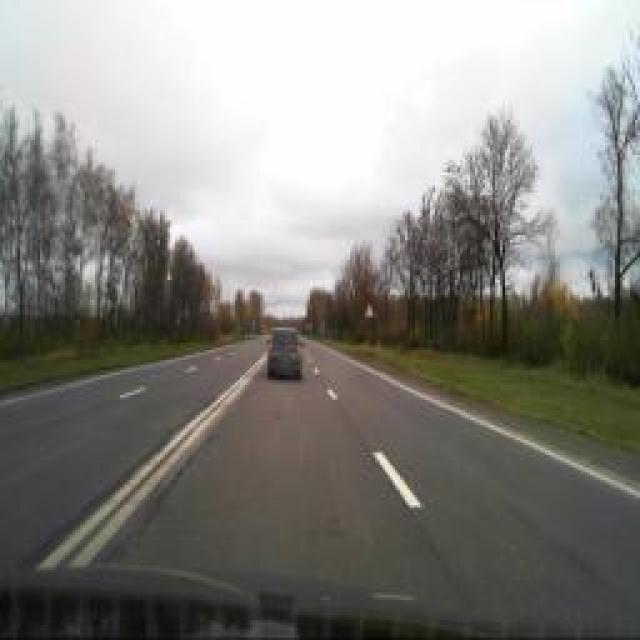sign: (365, 300, 375, 318)
